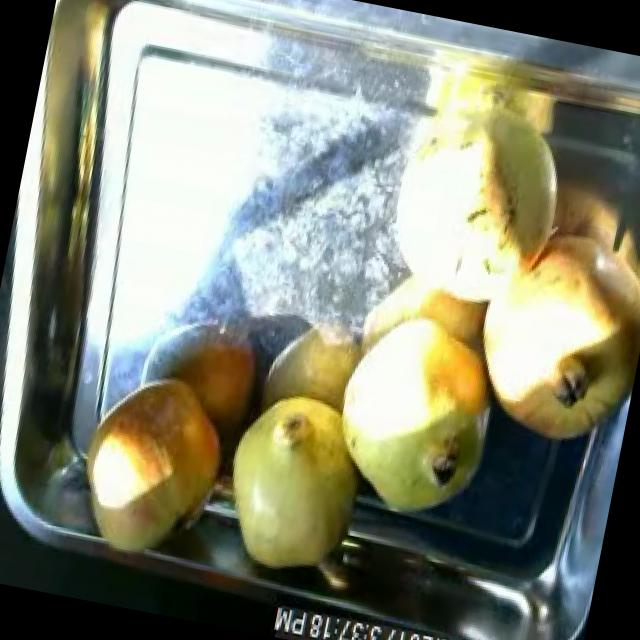fruit: (452, 191, 640, 466), (311, 291, 519, 535), (399, 80, 601, 321), (61, 353, 249, 579), (202, 368, 384, 590)
